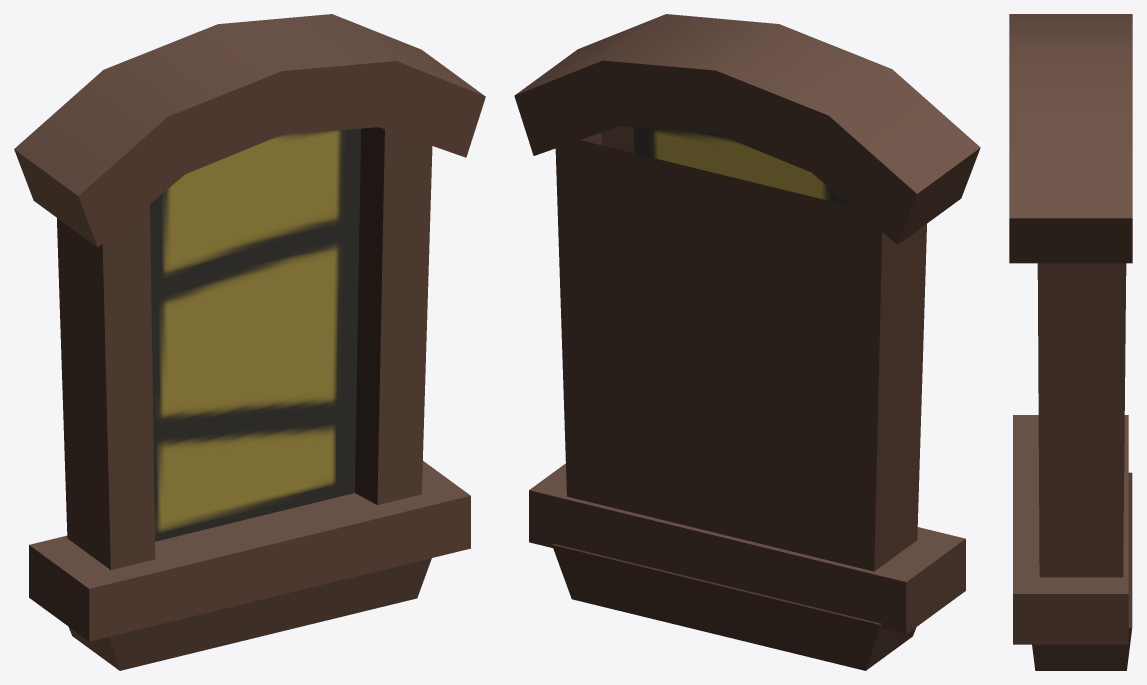
The model's file is Window_E04.fbx.
The picture shows the model from 3 angles, left to right: view 1: azimuth 30°, elevation 25°; view 2: azimuth 150°, elevation 25°; view 3: azimuth 270°, elevation 25°; orthographic projection. The views are drawn at different scales.
Visible parts, largest first — view 1: Window_E04; view 2: Window_E04; view 3: Window_E04.
Part boxes in pixels (x1,y1,x2,y2): Window_E04: (14, 14, 485, 670); Window_E04: (514, 14, 980, 670); Window_E04: (1009, 14, 1132, 670).
Size of the model in its own units: 165 by 221 by 44.99.
